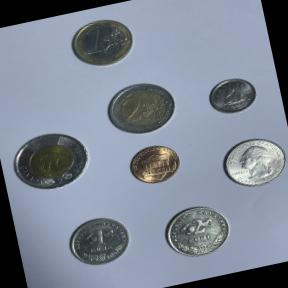coin: (4, 121, 98, 198), (156, 196, 240, 264), (100, 74, 182, 142), (64, 10, 142, 73), (214, 129, 288, 194), (121, 138, 188, 190), (203, 70, 262, 120)
